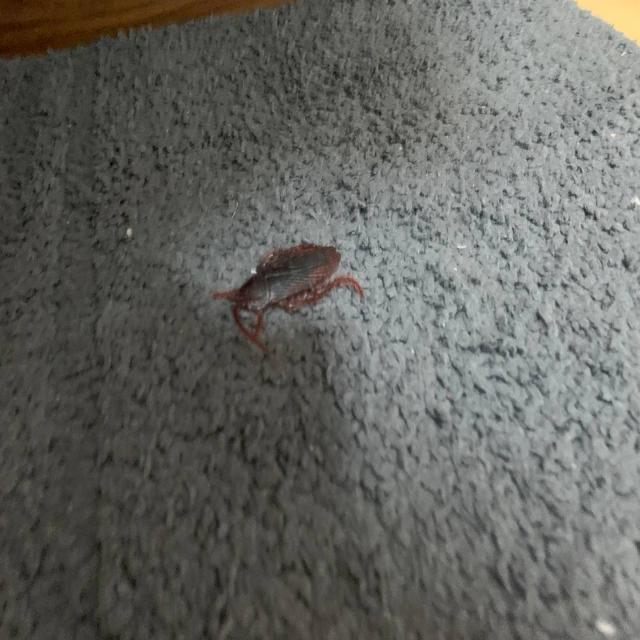Cockroach: (205, 234, 371, 348)
